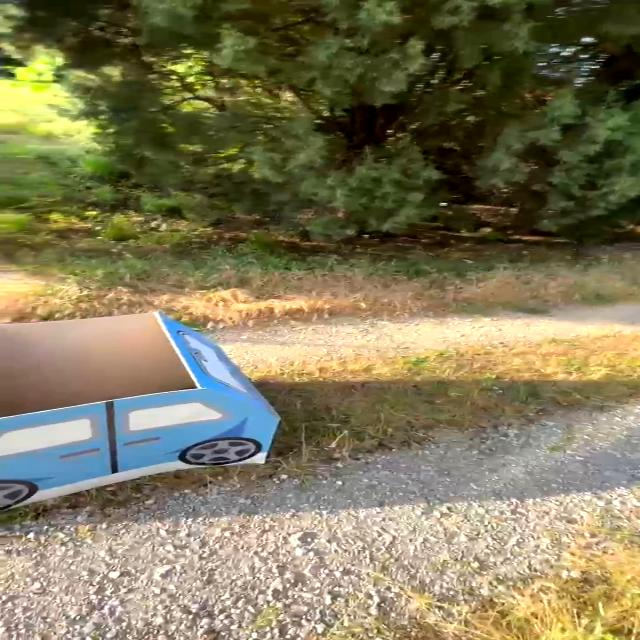blue_car: (0, 302, 311, 525)
